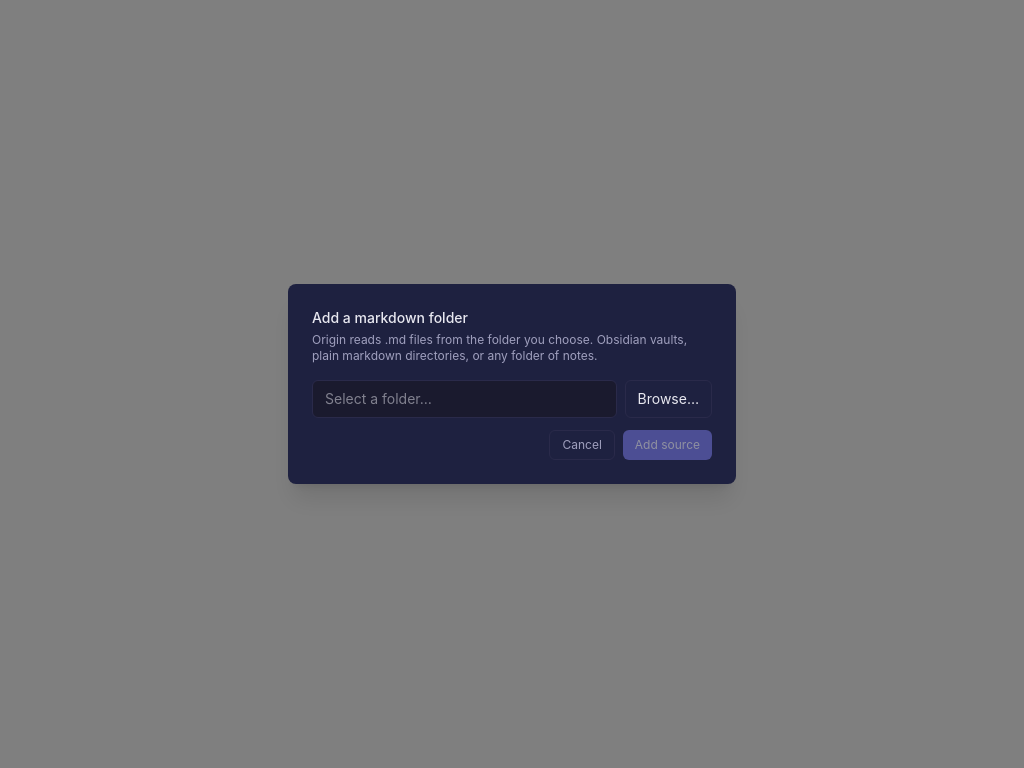
Test case: AddSourceDialog › detects markdown files without obsidian
This screenshot has width=1024, height=768.
Click the button "Browse…" at [668, 399], box [624,380,712,418]
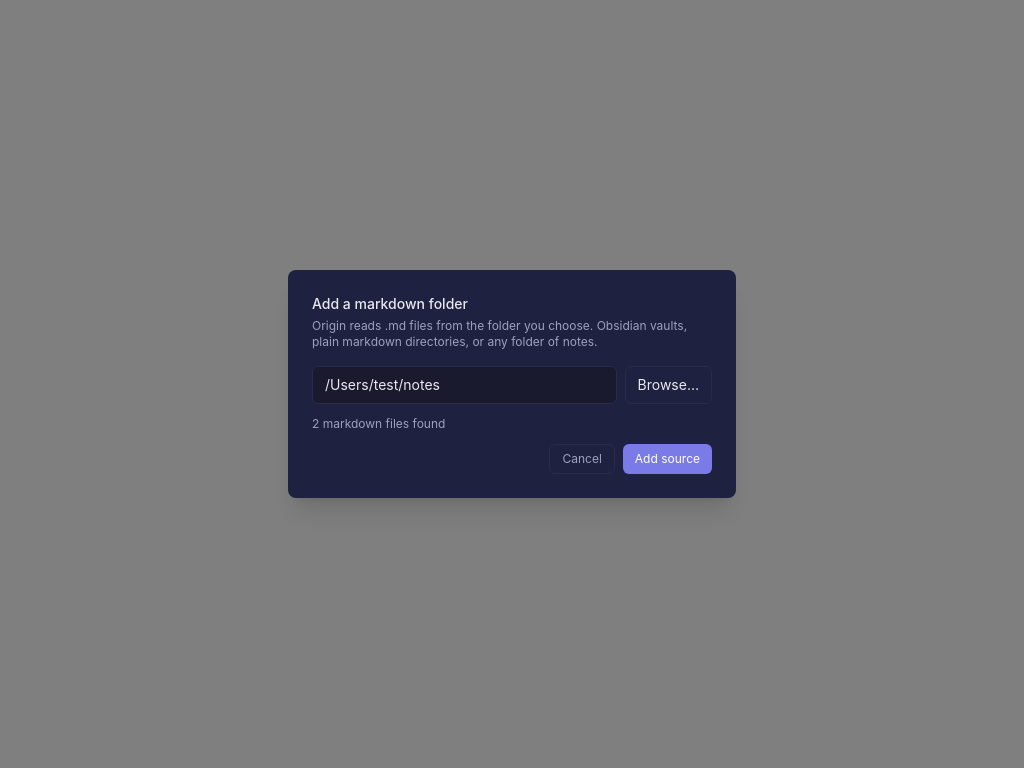
Expected: the text "2 markdown files found" is shown, [312,416,445,431]
